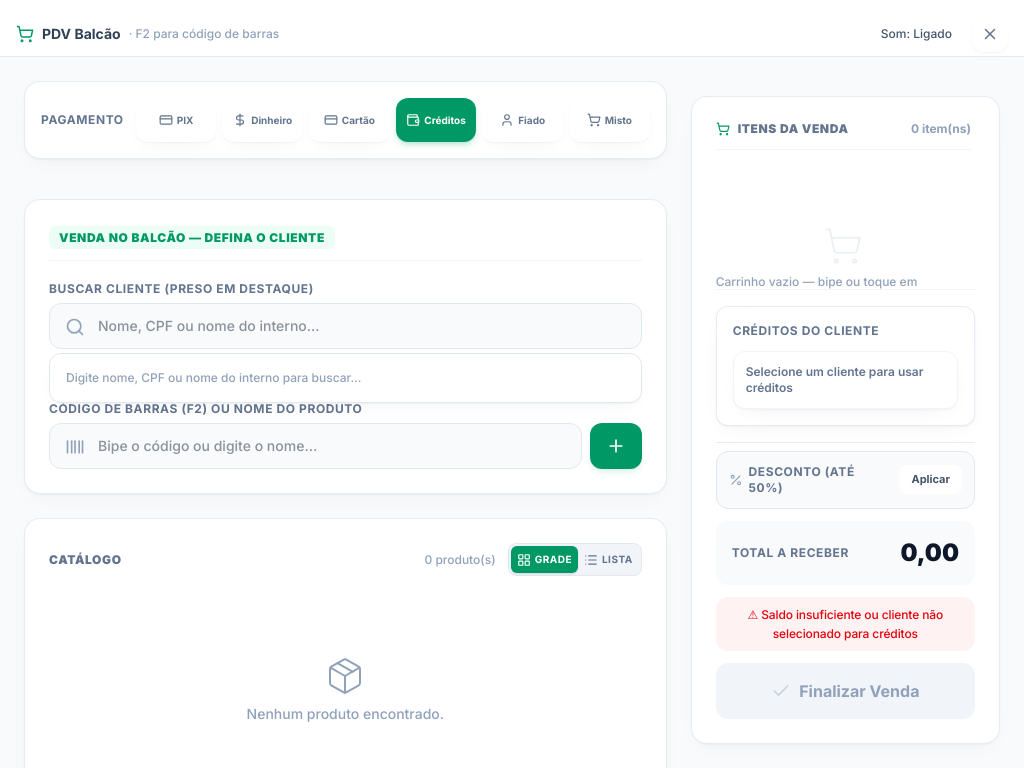
Test case: lista de clientes do PDV — preso é o destaque, familiar é apoio › mostra o preso em destaque e o familiar rotulado abaixo
The width and height of the screenshot is (1024, 768).
Type "MARIA" into the field with placeholder "Nome, CPF ou nome do interno..." at (345, 326), box [49, 303, 642, 349]
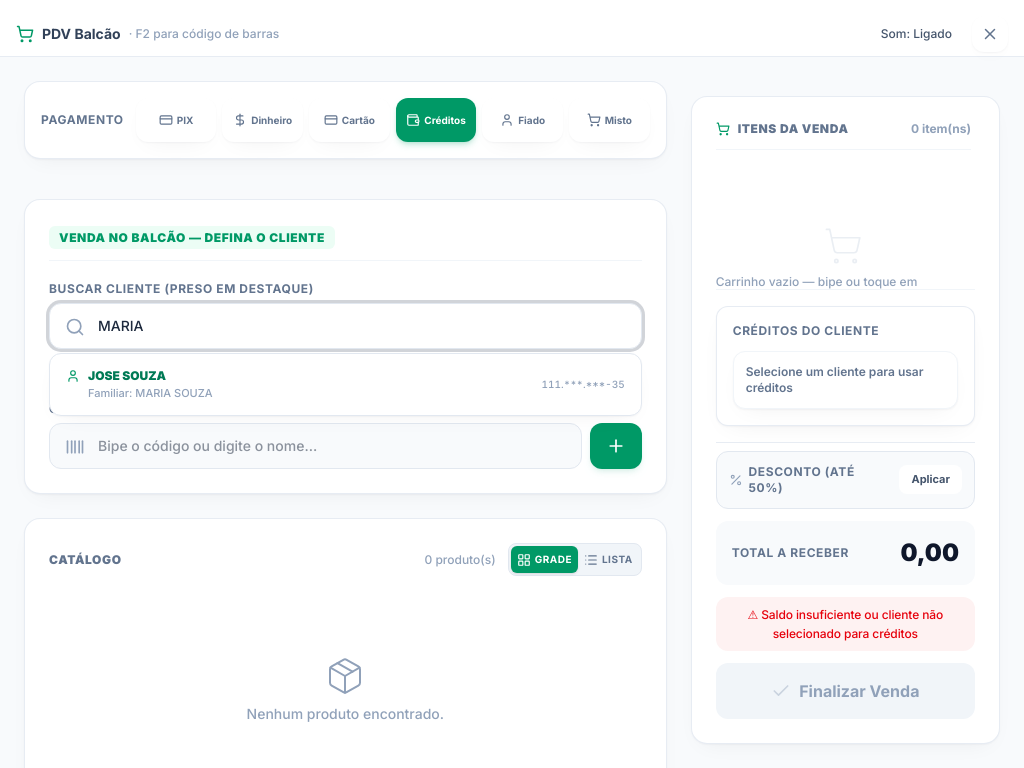
Expected: the button "JOSE SOUZA Familiar: MARIA SOUZA 111.***.***-35" is shown, [54, 358, 637, 411]
